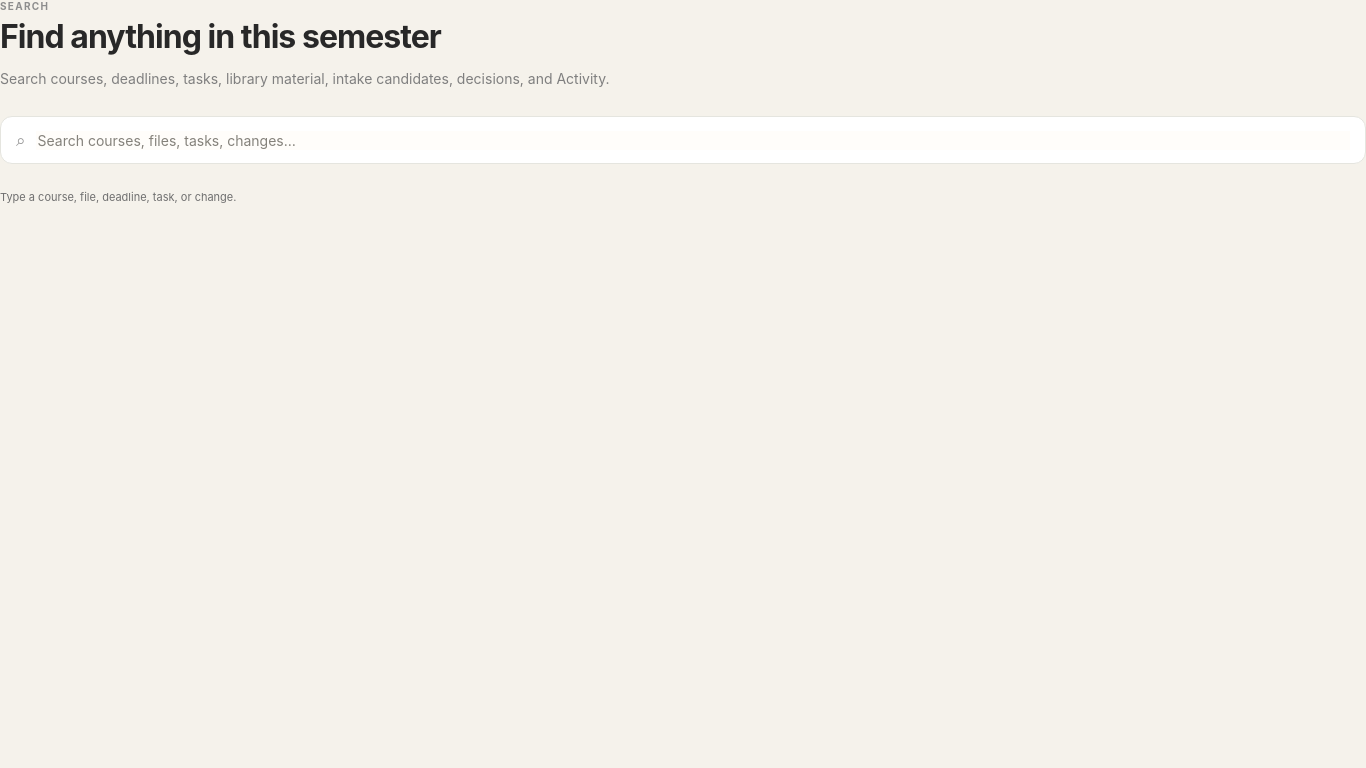
Test: SearchView › includes semester-level inbox files and opens a read-only preview
Step 1. Type "Semester announcement" into the field named "Search workspace" → (693, 140), box [36,131,1350,150]
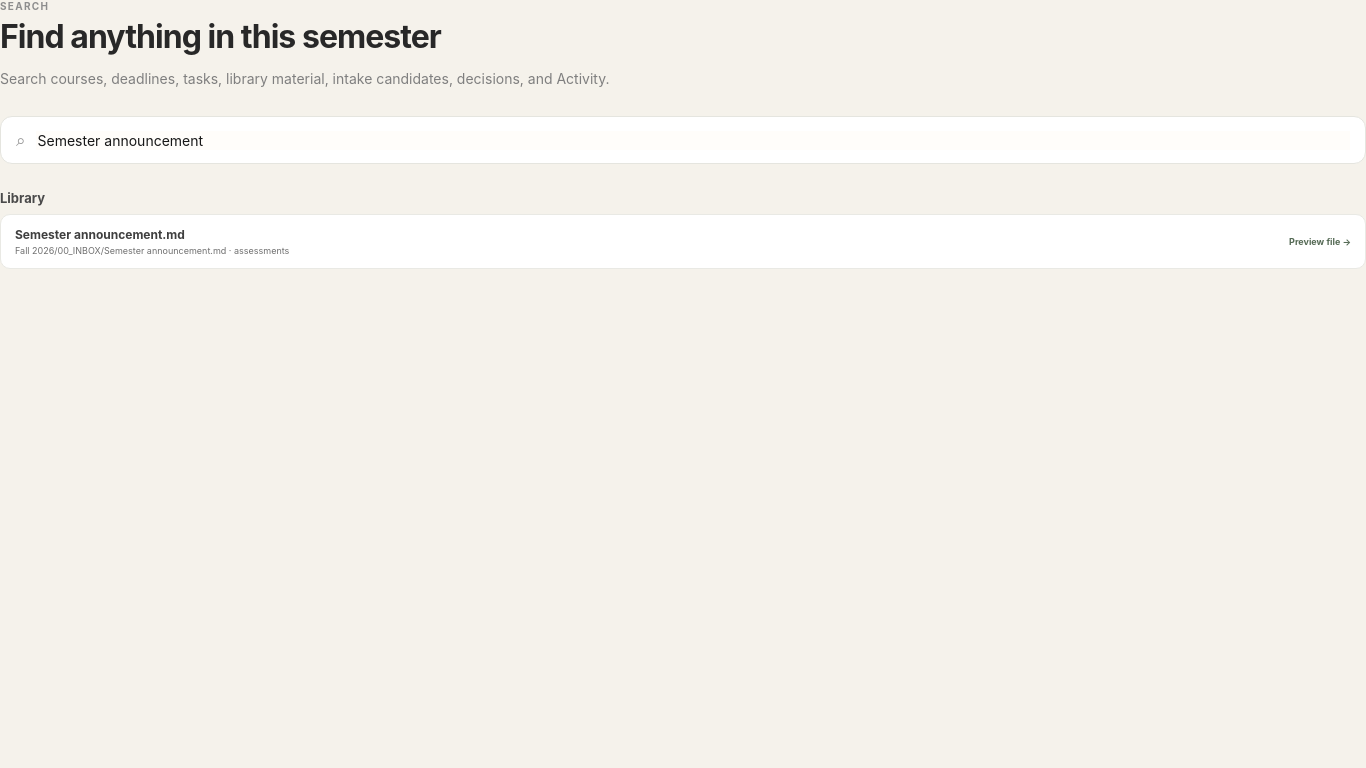
Step 2. Click the button named "Preview file" → (100, 235), box [0,214,1365,269]
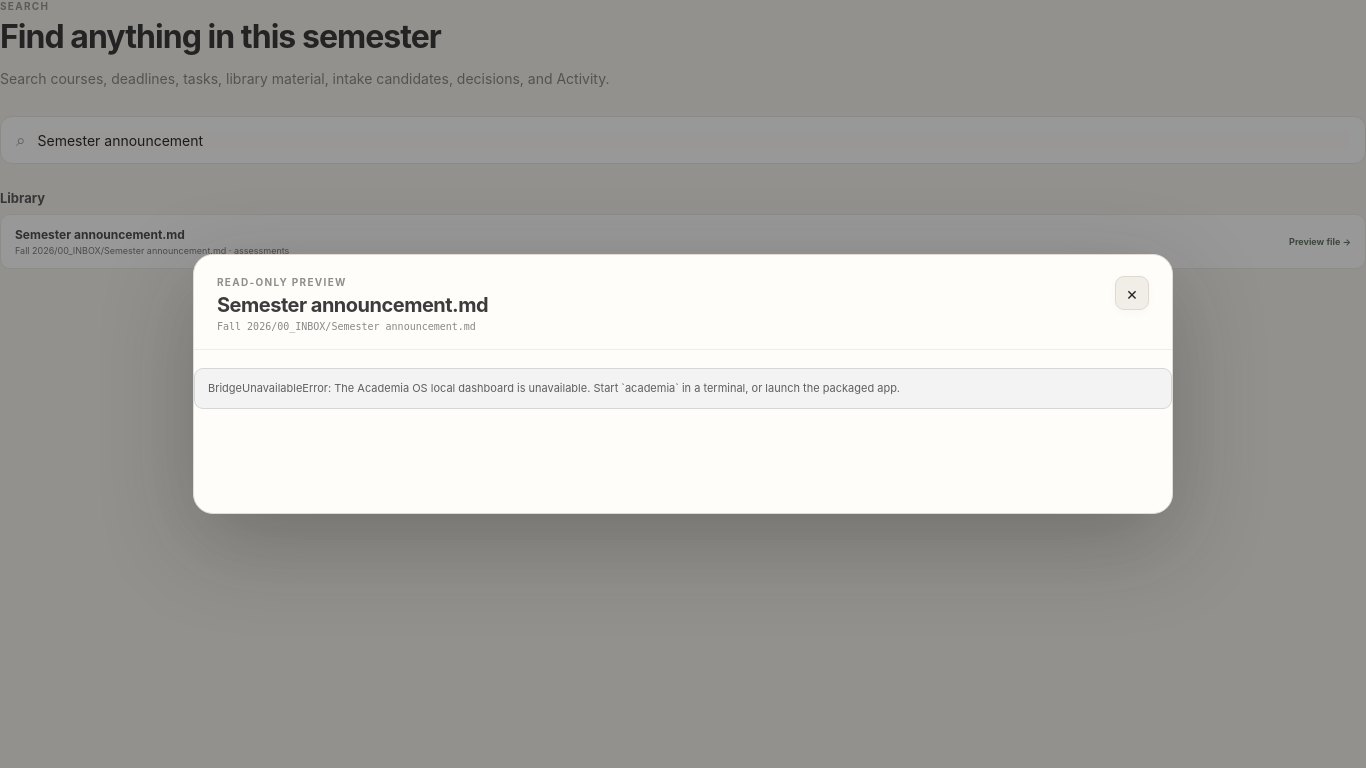
Now the heading "Semester announcement.md" is shown, box [217,293,488,317]
